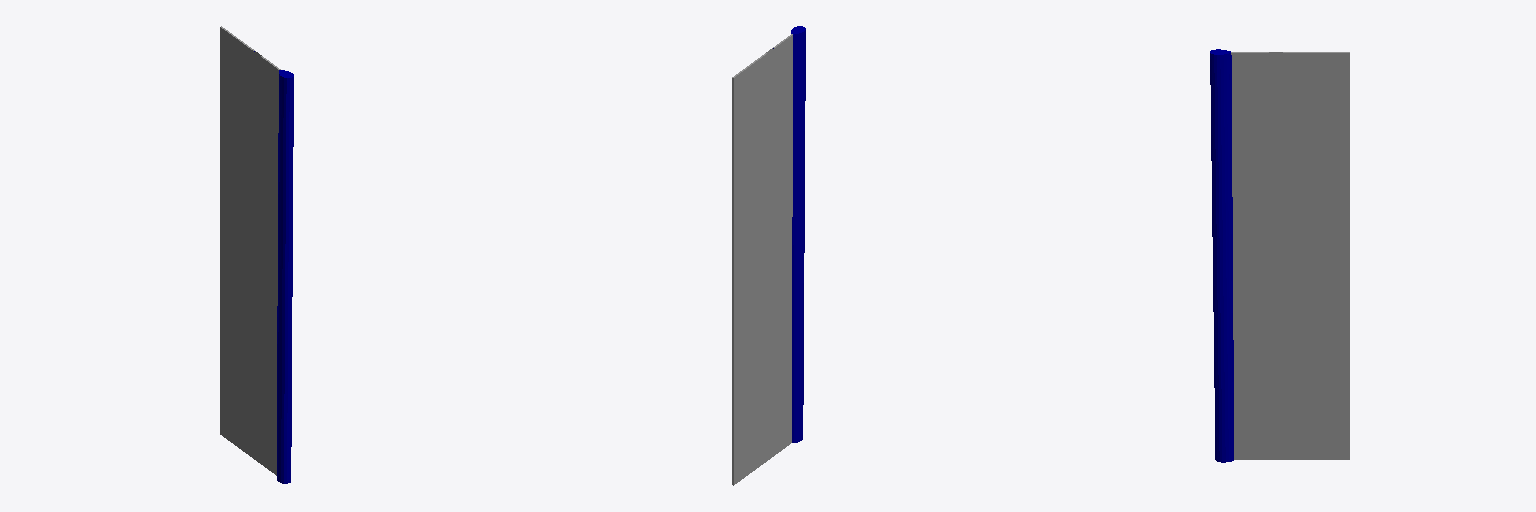
Rendered from pizza_wall.obj.
The picture shows the model from 3 angles: view 1: azimuth 30°, elevation 25°; view 2: azimuth 150°, elevation 25°; view 3: azimuth 270°, elevation 25°; orthographic projection.
Parts seen in each view (by area): view 1: Cube_Cube.001; view 2: Cube_Cube.001; view 3: Cube_Cube.001.
Boxes of the visible parts, box(x1,y1,x2,y2) form: Cube_Cube.001: box(220, 26, 293, 483); Cube_Cube.001: box(732, 26, 805, 485); Cube_Cube.001: box(1210, 49, 1349, 462).
Bounding box in the file's own units: 0.3255 × 11.12 × 3.46.